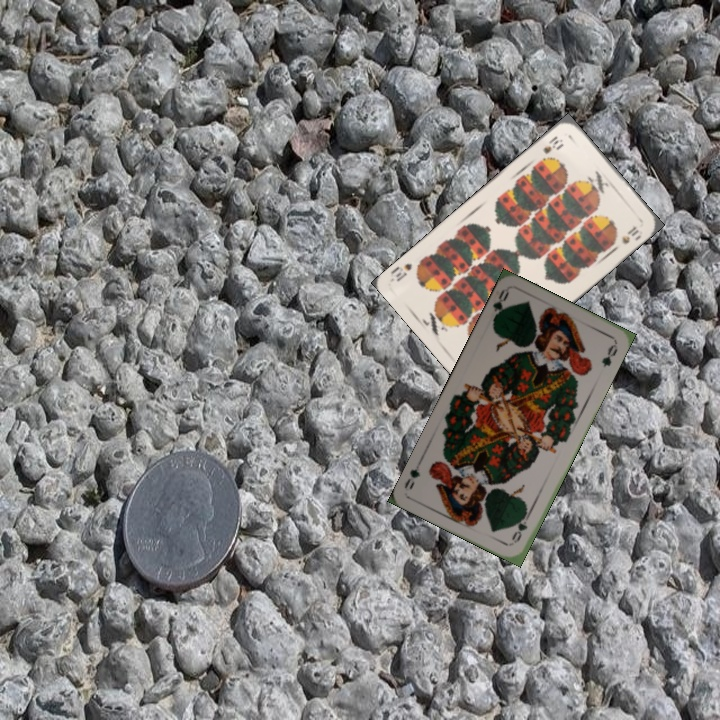GO: (508, 507, 534, 546), (488, 285, 512, 325)
S10: (539, 132, 566, 157)
